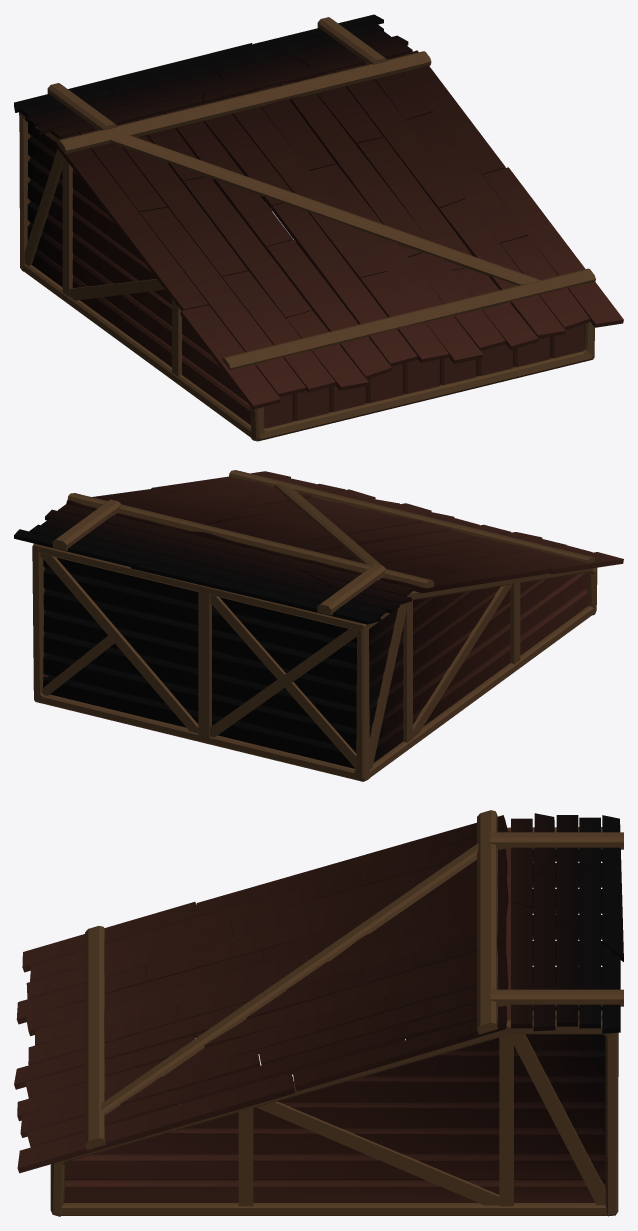
File: standard_wooden_roof_4.FBX
3 renders of one model, top to bottom at view 1: azimuth 30°, elevation 25°; view 2: azimuth 150°, elevation 25°; view 3: azimuth 270°, elevation 25°, orthographic. The views are drawn at different scales.
Visible parts, largest first — view 1: standard_wooden_roof_4; view 2: standard_wooden_roof_4; view 3: standard_wooden_roof_4.
Part boxes in pixels (left/top/right/bottom): standard_wooden_roof_4: left=14, top=14, right=623, bottom=441; standard_wooden_roof_4: left=14, top=470, right=623, bottom=781; standard_wooden_roof_4: left=14, top=810, right=623, bottom=1216.
Size of the model in its own units: 649 by 290 by 770.
